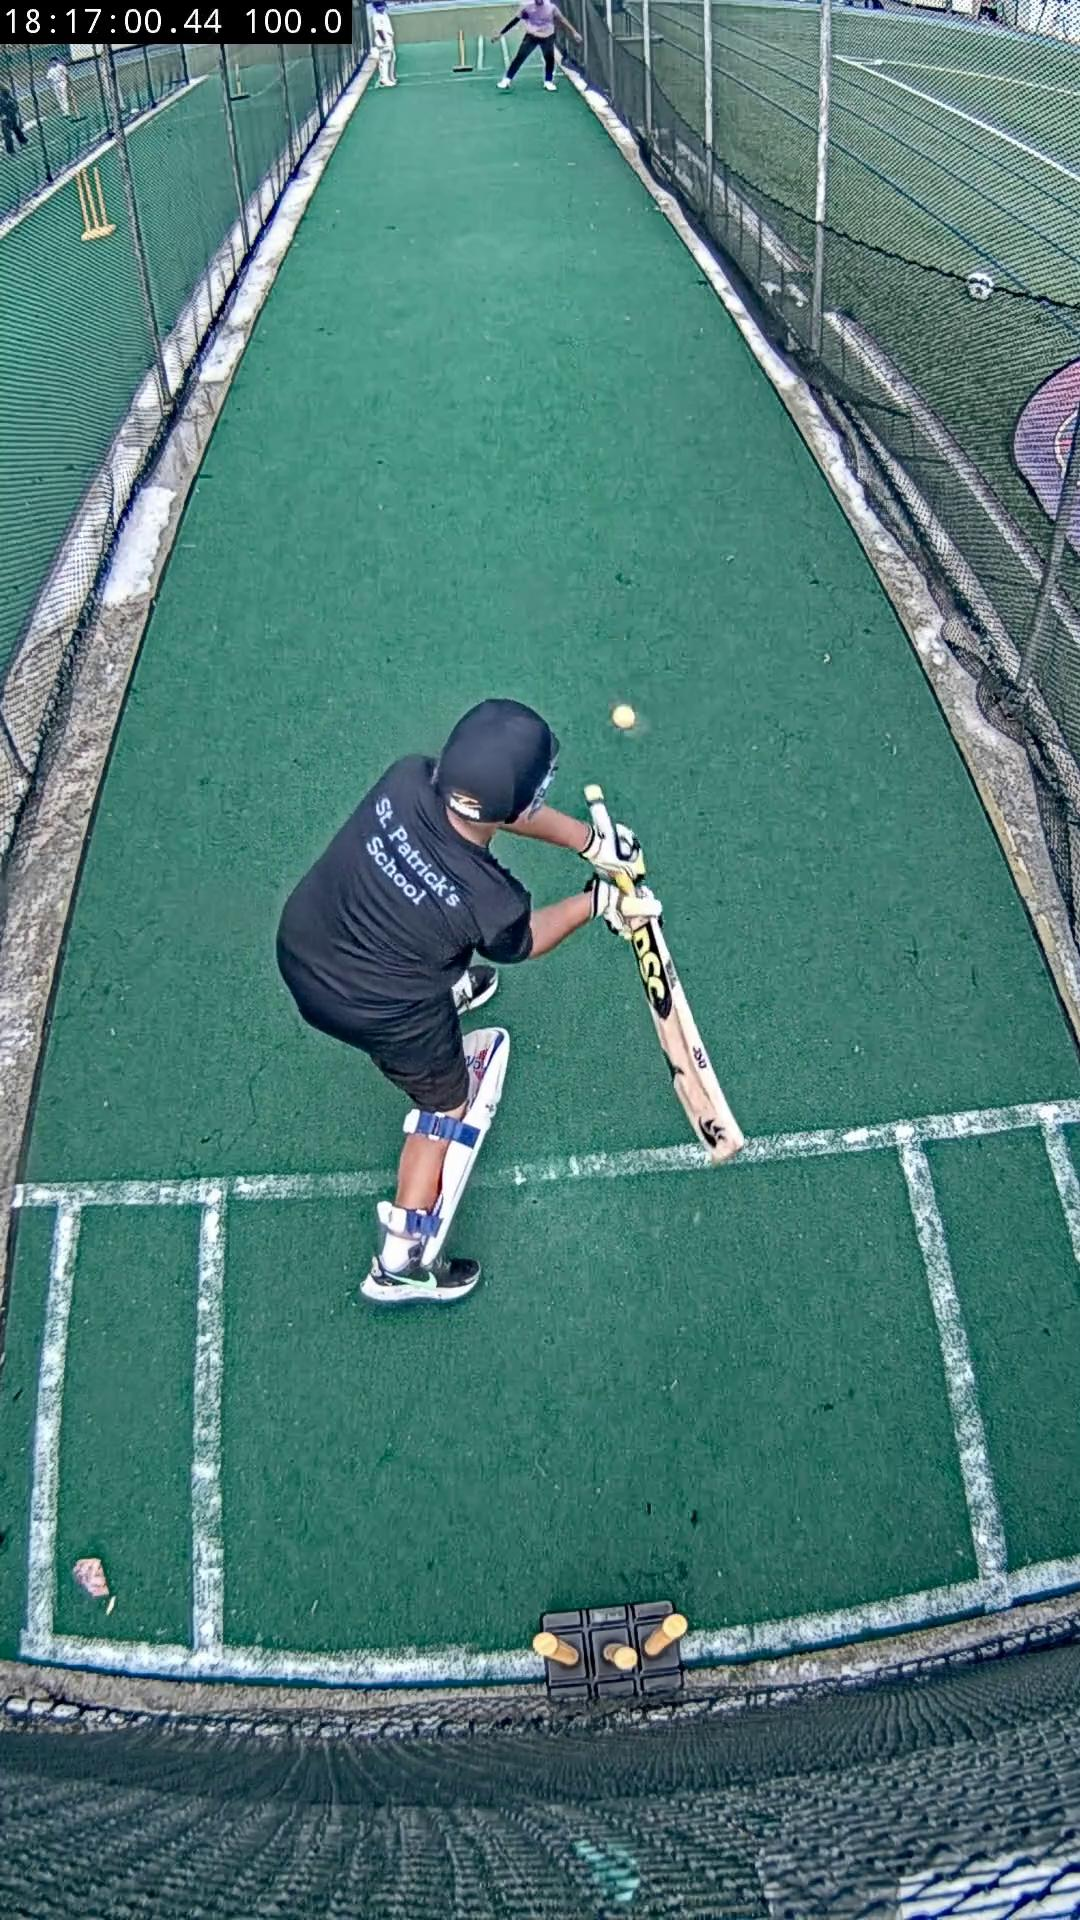ball: (612, 705, 637, 728)
bat: (630, 919, 746, 1160)
gloves: (582, 825, 663, 938)
helmet: (431, 698, 559, 822)
pads: (419, 1027, 510, 1263)
stumps: (533, 1601, 686, 1702)
